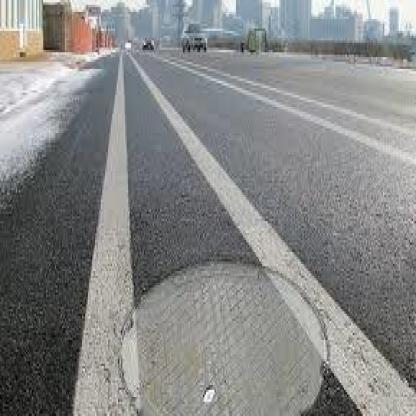manholes: (105, 233, 343, 416)
